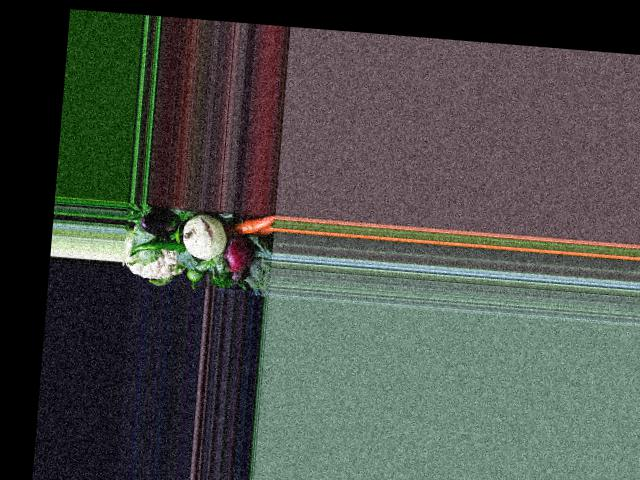carrot: (233, 210, 276, 242)
